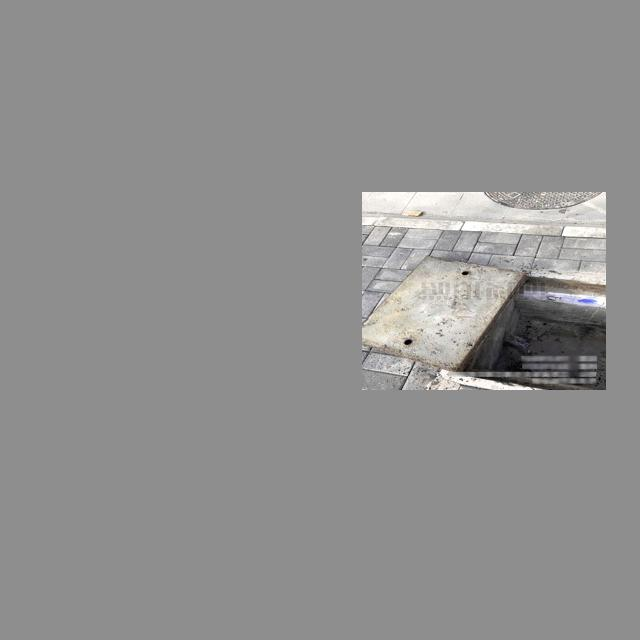uncovered: (362, 256, 605, 386)
